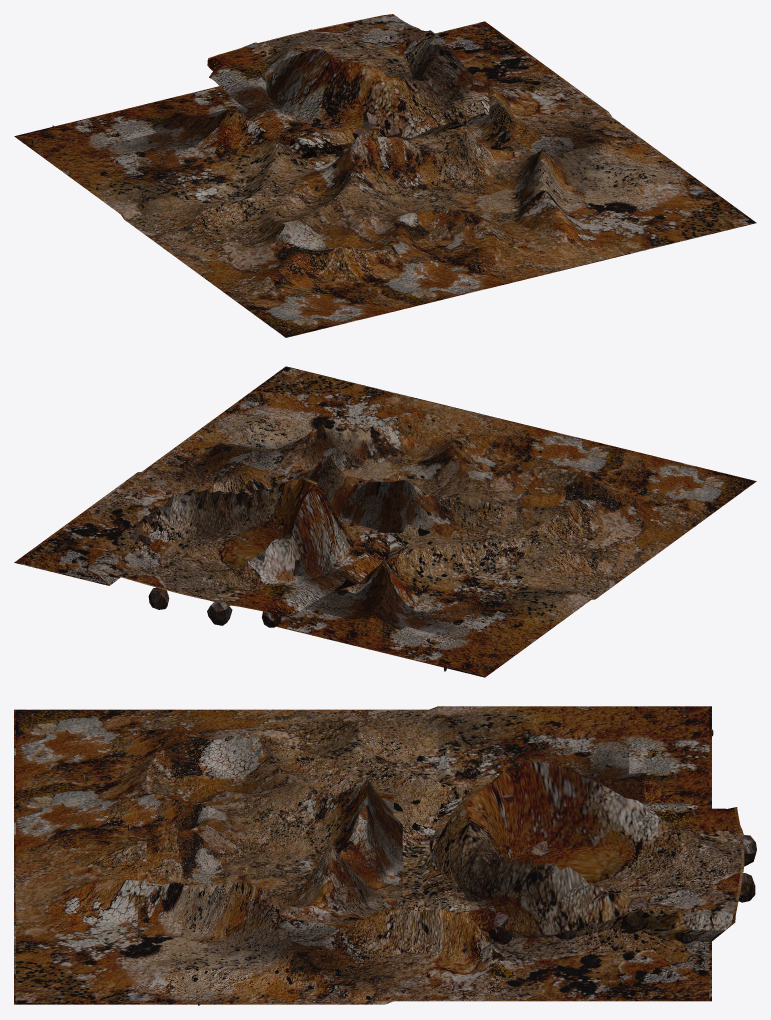
Rendered from landscape.obj.
3 views of the same model, one above another, from view 1: azimuth 30°, elevation 25°; view 2: azimuth 150°, elevation 25°; view 3: azimuth 270°, elevation 25° (orthographic). The views are drawn at different scales.
Visible parts, largest first — view 1: landscape_Cube.001; view 2: landscape_Cube.001; view 3: landscape_Cube.001.
Part boxes in pixels (box(x1,y1,x2,y2)): landscape_Cube.001: box(14, 14, 756, 337); landscape_Cube.001: box(14, 366, 756, 677); landscape_Cube.001: box(14, 706, 756, 1005).
Bounding box in the file's own units: 20001 × 3331 × 21289.
Materials: 3 (3 with a texture image).
